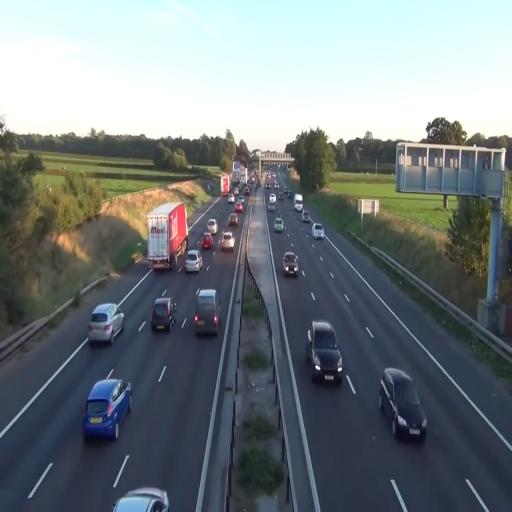vehicle: (378, 367, 428, 444), (82, 376, 132, 442), (146, 202, 189, 272), (306, 319, 344, 386), (88, 303, 124, 345), (112, 487, 170, 512), (194, 288, 220, 336), (150, 296, 176, 334), (282, 250, 300, 278), (185, 250, 203, 273), (199, 232, 216, 253), (220, 230, 236, 252), (273, 214, 285, 233), (313, 222, 324, 238)
